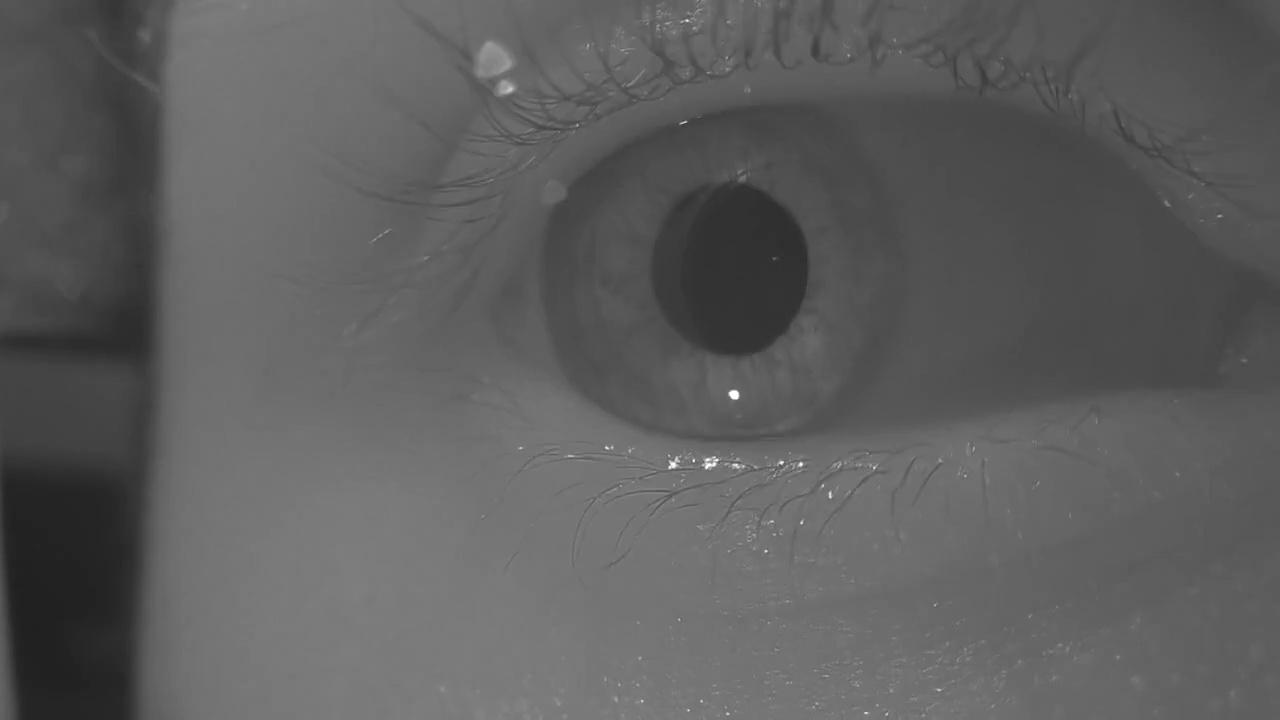pupil: (652, 183, 806, 355)
